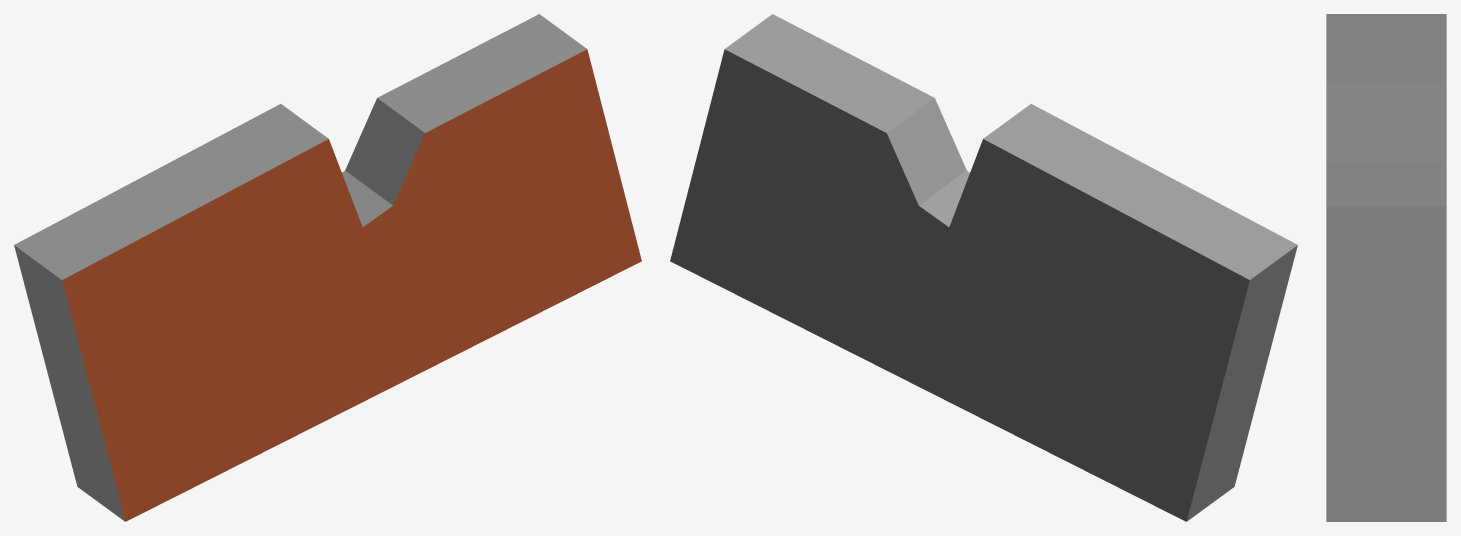
Rendered from construction_3926_assumed_A_Casa_h6m.obj.
3 renders of one model, left to right at view 1: azimuth 30°, elevation 25°; view 2: azimuth 150°, elevation 25°; view 3: azimuth 270°, elevation 25°, orthographic. The views are drawn at different scales.
Parts seen in each view (by area): view 1: construction_3926_assumed_A_Casa; view 2: construction_3926_assumed_A_Casa; view 3: construction_3926_assumed_A_Casa.
Boxes of the visible parts, left/top/right/bottom form: construction_3926_assumed_A_Casa: left=14, top=14, right=641, bottom=521; construction_3926_assumed_A_Casa: left=670, top=14, right=1297, bottom=521; construction_3926_assumed_A_Casa: left=1326, top=14, right=1446, bottom=521.
Size of the model in its own units: 41.78 by 24.8 by 6.
